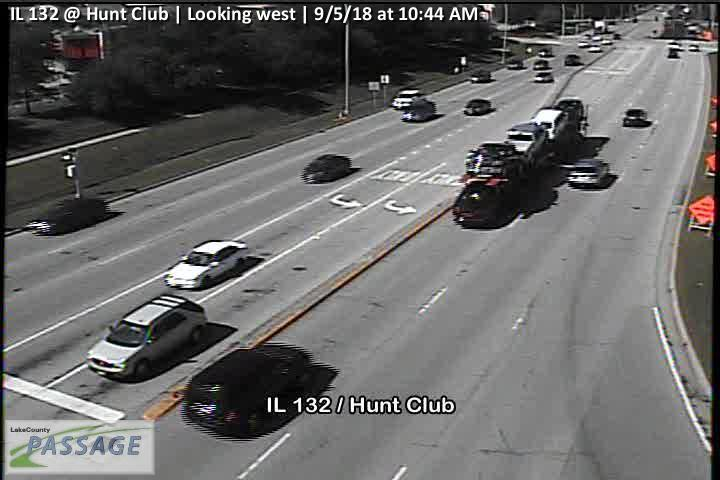SUV: (183, 344, 311, 437), (87, 295, 208, 380), (392, 89, 420, 109)
Sedan: (163, 239, 248, 289), (25, 196, 106, 235), (304, 154, 351, 183), (568, 158, 607, 186), (401, 99, 436, 121), (464, 99, 491, 116), (623, 108, 647, 126), (471, 70, 492, 82), (534, 72, 553, 82), (506, 59, 523, 70), (565, 54, 580, 66), (533, 60, 548, 70), (537, 47, 552, 57), (589, 44, 600, 52), (577, 41, 588, 47)
Truck: (453, 98, 588, 229)
